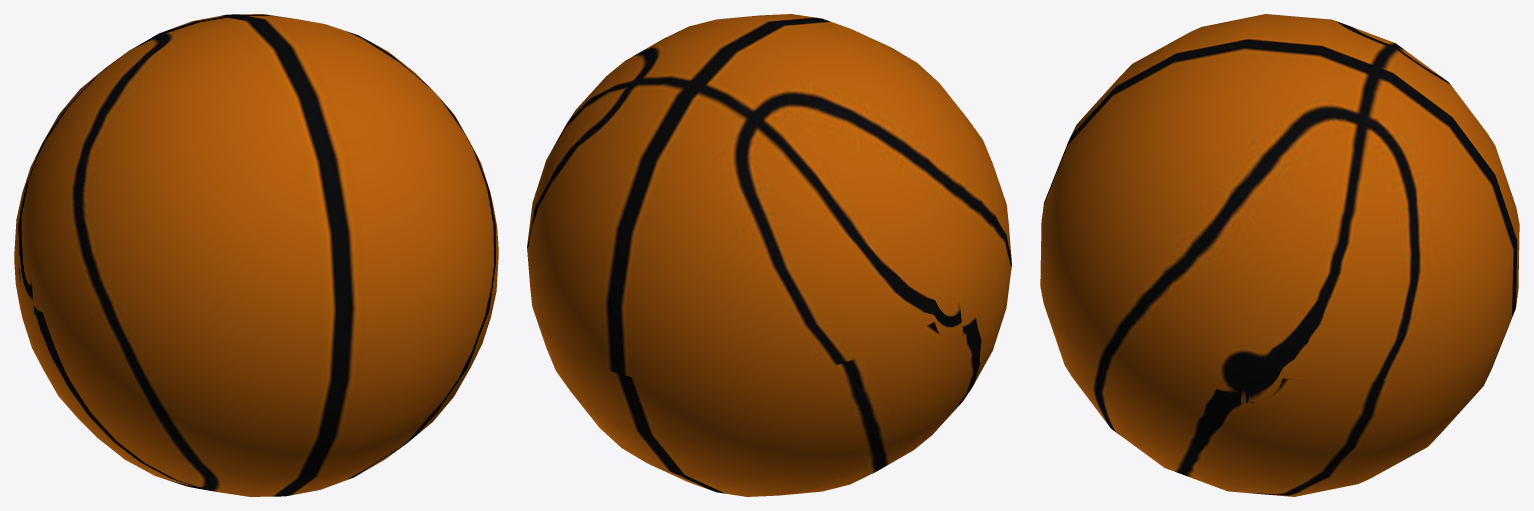
File: ball.obj
The picture shows the model from 3 angles, left to right: view 1: azimuth 30°, elevation 25°; view 2: azimuth 150°, elevation 25°; view 3: azimuth 270°, elevation 25°; orthographic projection.
Visible parts, largest first — view 1: pSphere3; view 2: pSphere3; view 3: pSphere3.
Boxes of the visible parts, left/top/right/bottom form: pSphere3: left=14, top=14, right=498, bottom=496; pSphere3: left=527, top=14, right=1011, bottom=496; pSphere3: left=1040, top=14, right=1519, bottom=496.
Bounding box in the file's own units: 0.6036 × 0.5973 × 0.598.
1 material, 1 textured.
